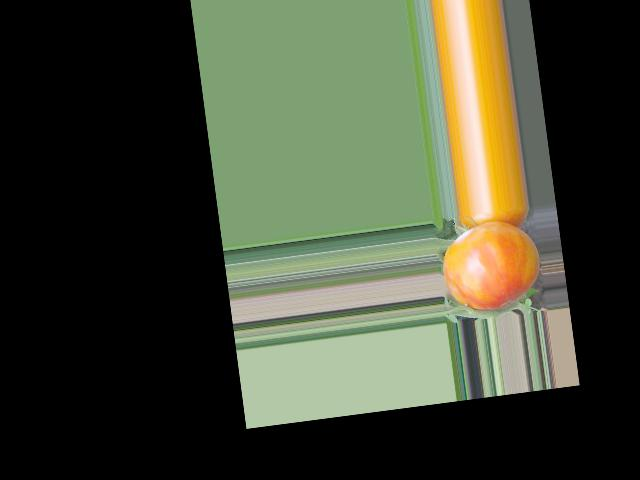tomato: (438, 216, 545, 314)
